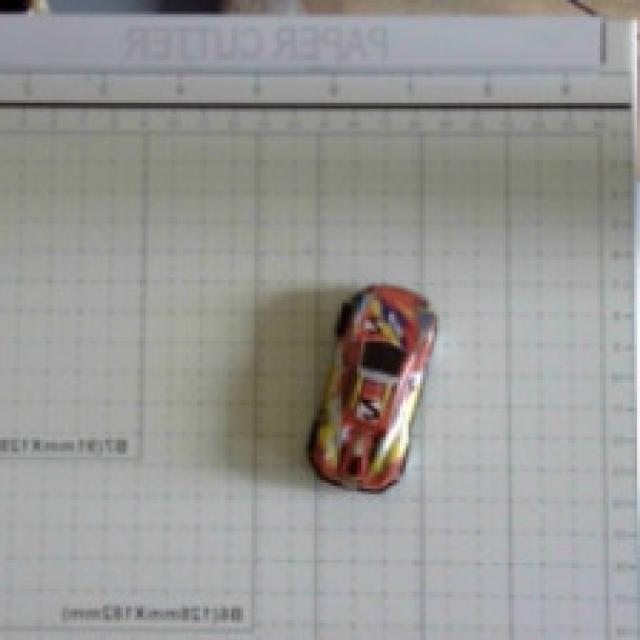Red Car: (279, 247, 482, 516)
